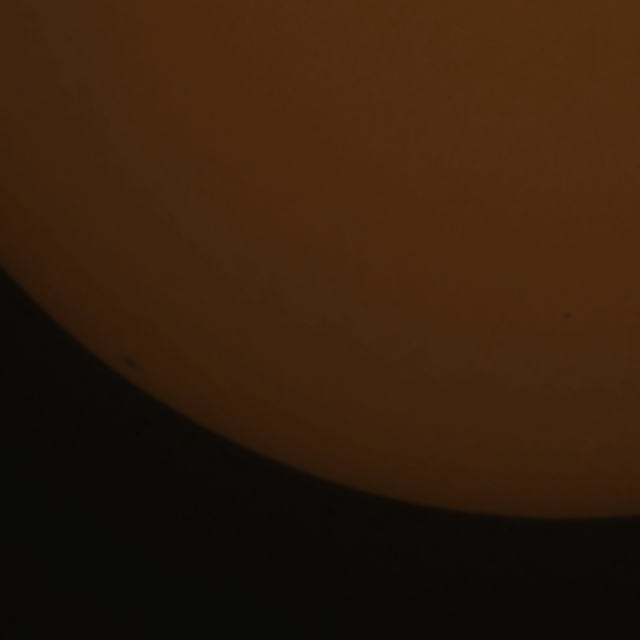sunspot: (561, 310, 574, 325)
